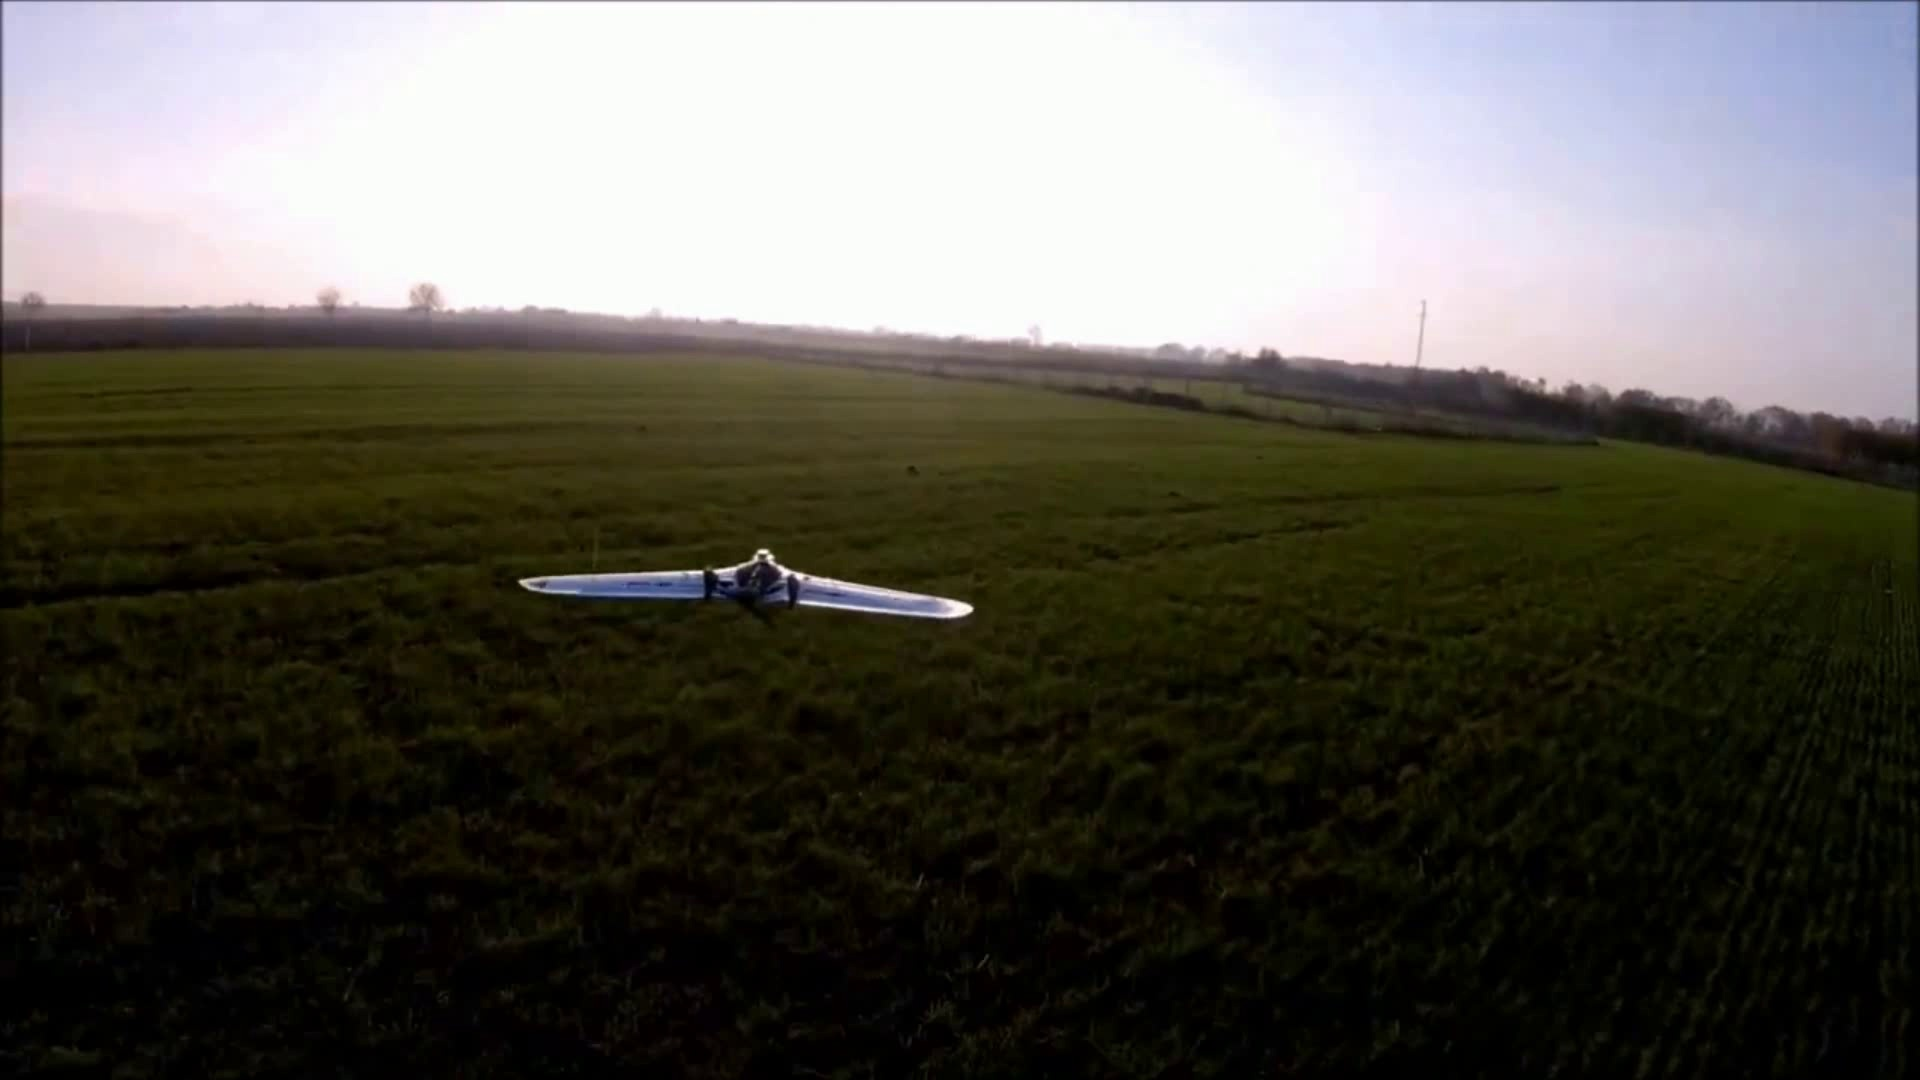airplane: (510, 549, 973, 626)
